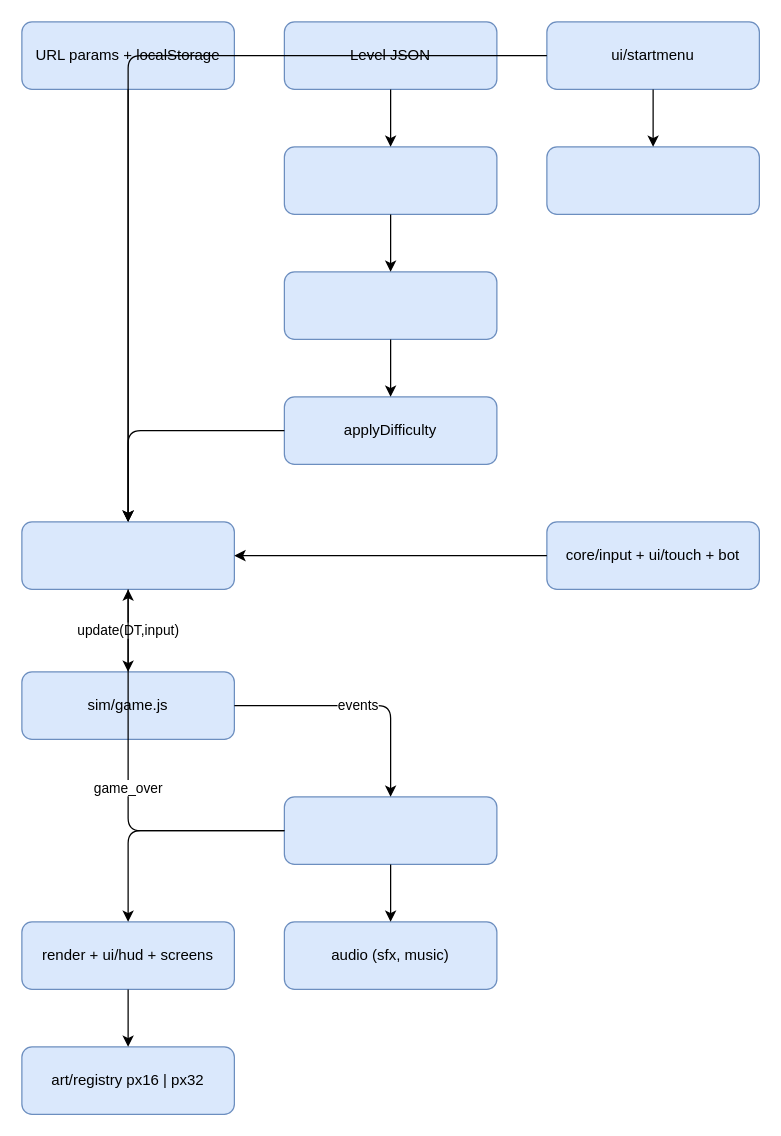
Some shapes in this 781 by 1136 pixel diagram are drawn without their labels. Here are the shapes that lost their labels. From the top down, the centre of each, then its label:
(x=390, y=180): fetchLevel + validateLevel
(x=652, y=180): core/settings + core/scores
(x=390, y=305): applySize
(x=127, y=555): src/main.js (boot + loop)
(x=390, y=830): event bus
